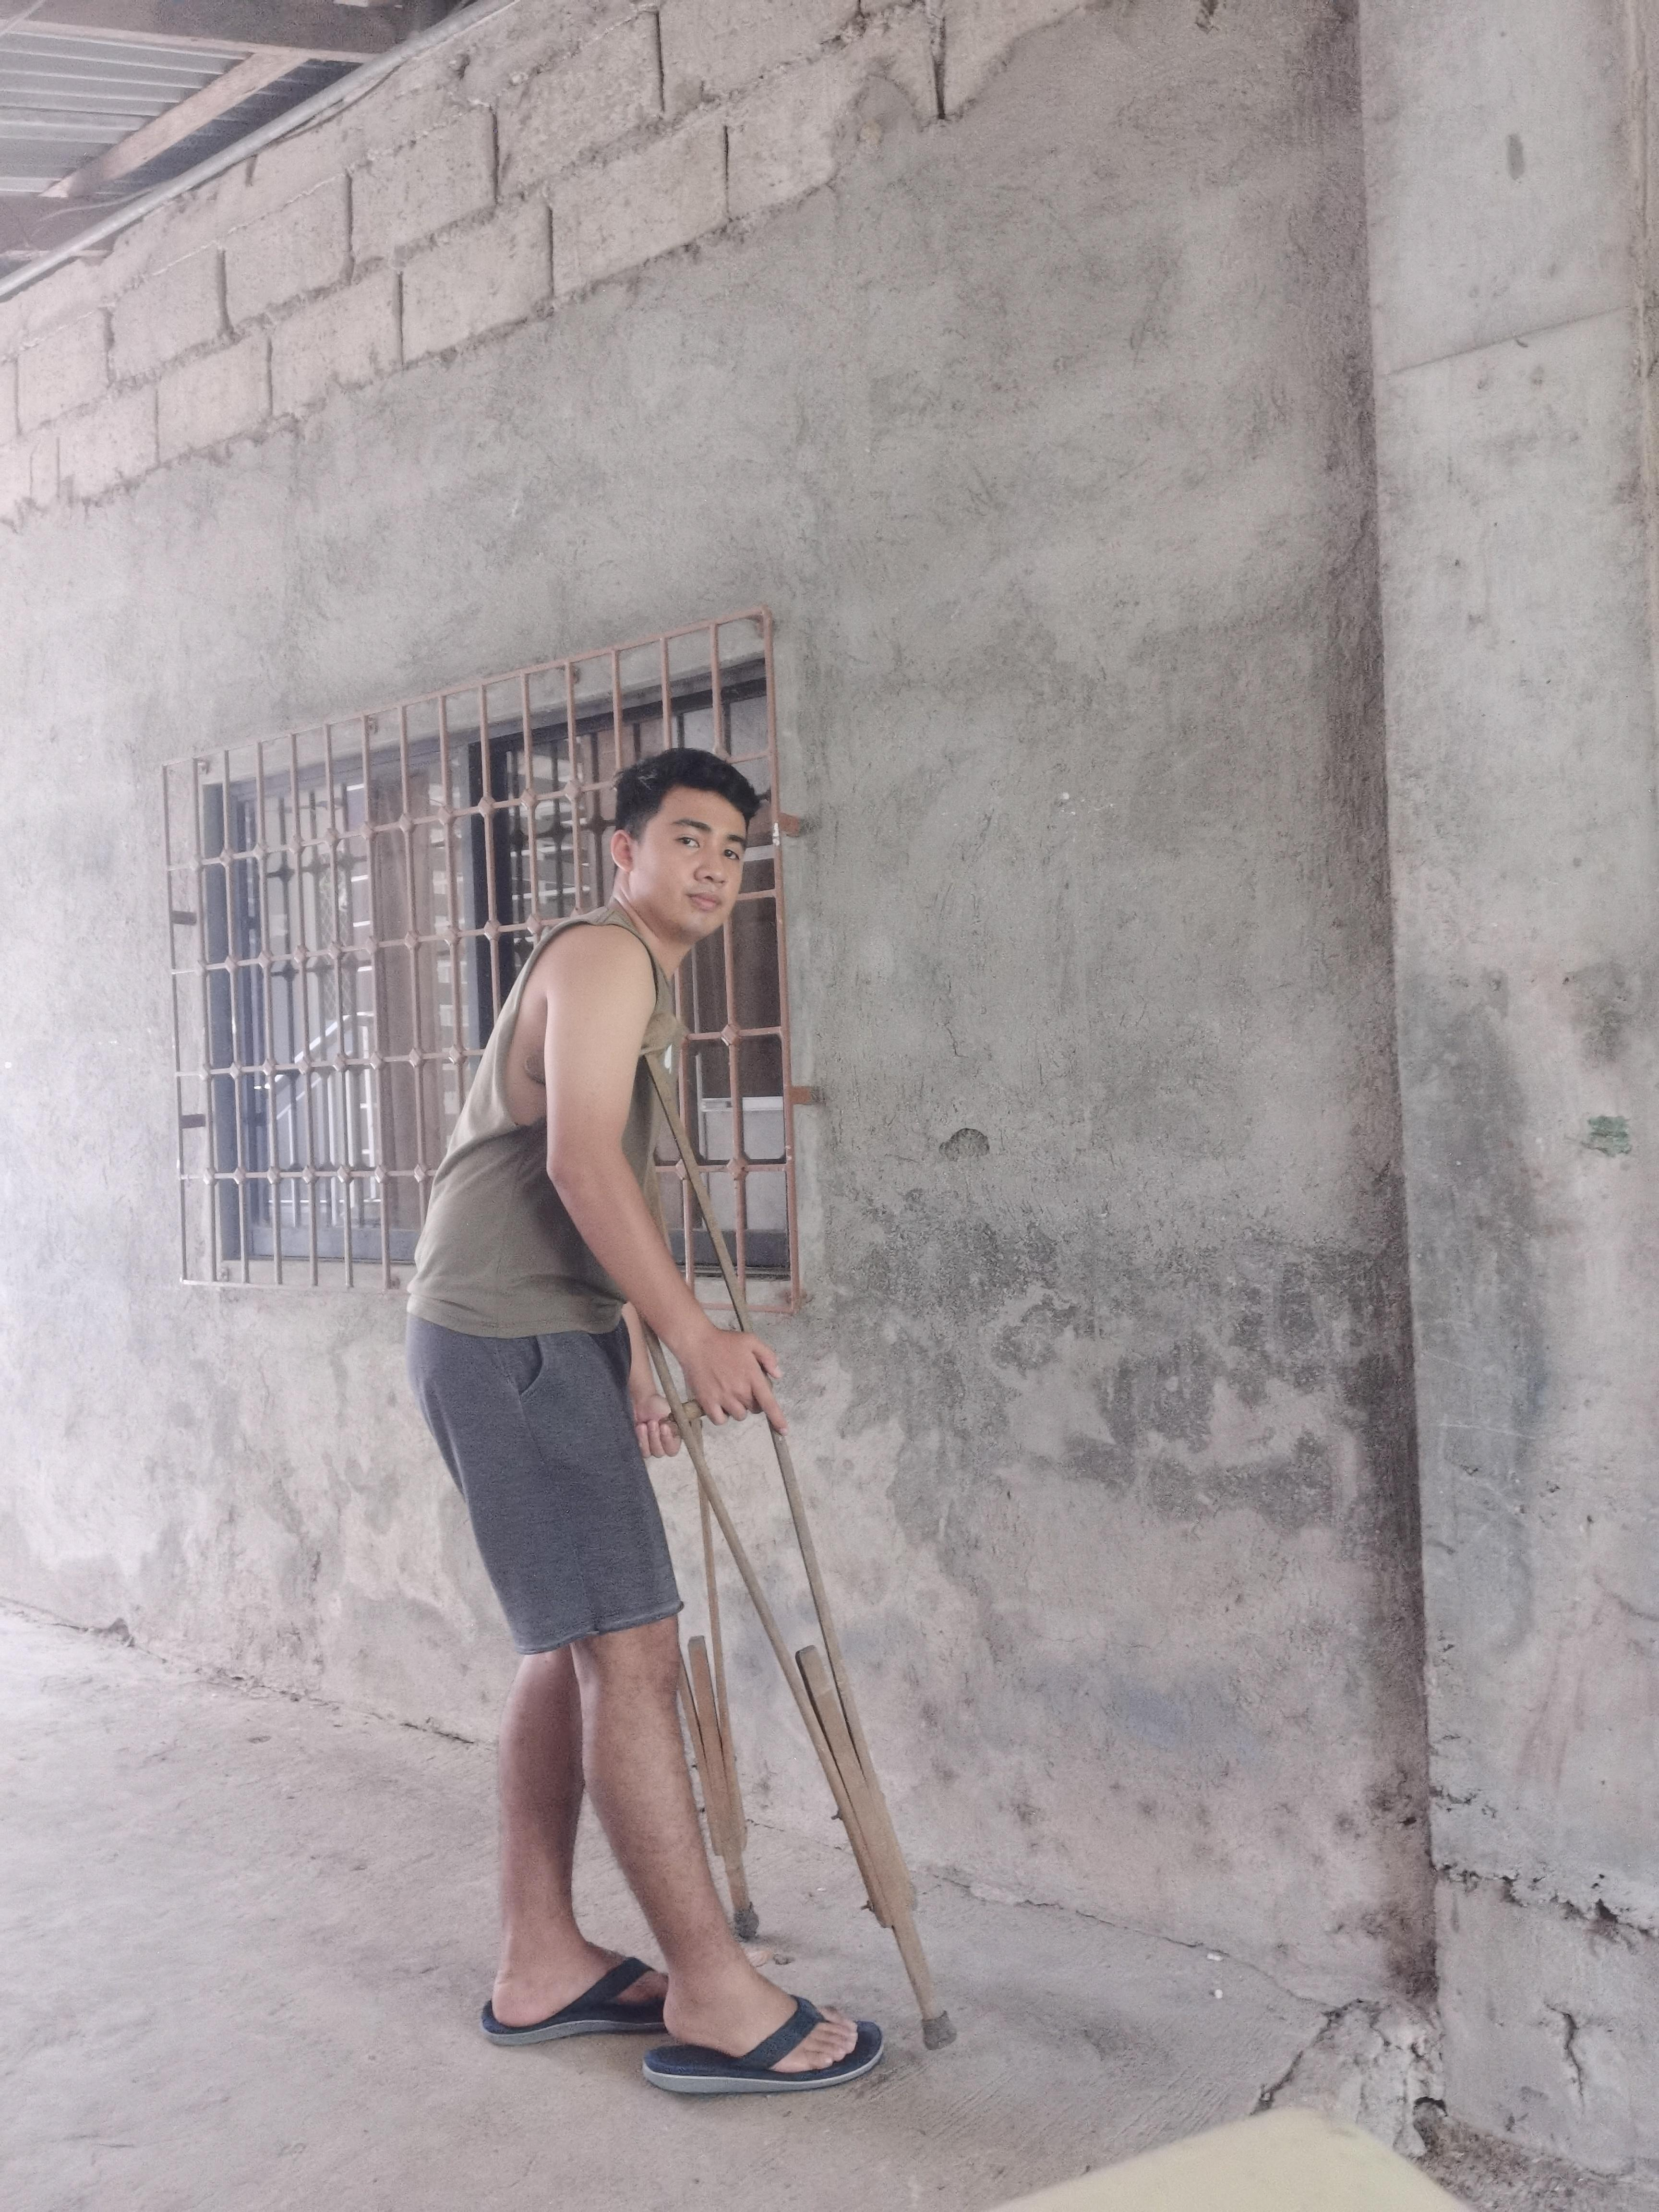crutches: (394, 726, 971, 2135)
